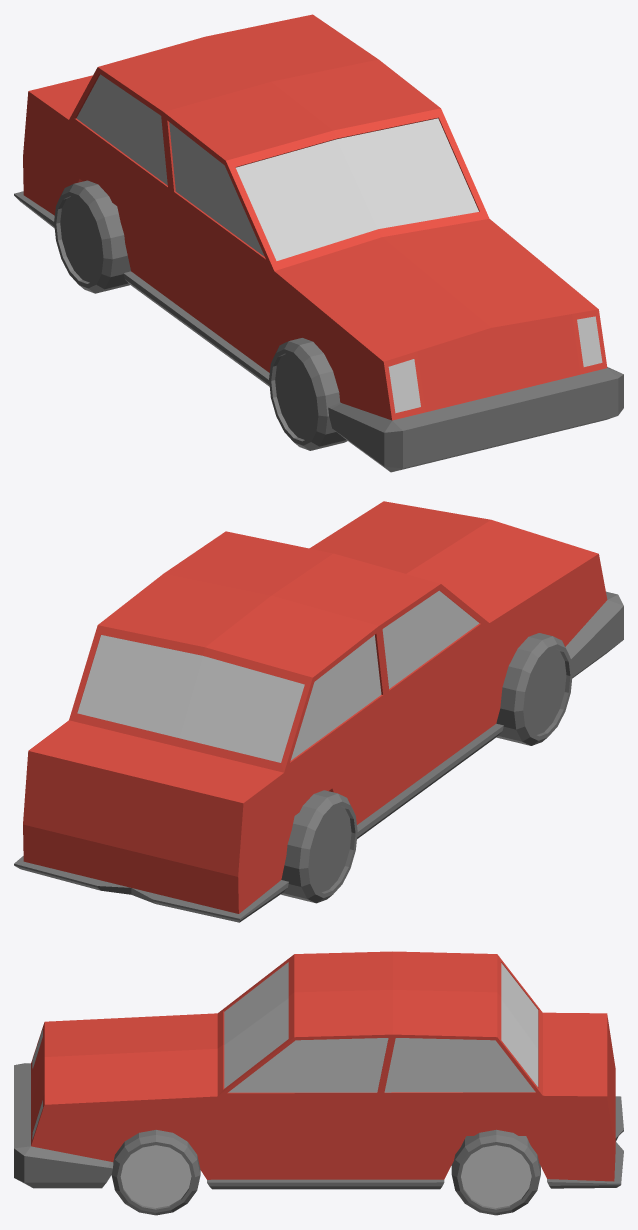
Rendered from car_city_oldenburg.fbx.
3 renders of one model, top to bottom at view 1: azimuth 30°, elevation 25°; view 2: azimuth 150°, elevation 25°; view 3: azimuth 270°, elevation 25°, orthographic. The views are drawn at different scales.
Parts seen in each view (by area): view 1: Circle; view 2: Circle; view 3: Circle.
Boxes of the visible parts, x1=… form: Circle: x1=14, y1=14, x2=623, y2=472; Circle: x1=14, y1=501, x2=623, y2=922; Circle: x1=14, y1=951, x2=623, y2=1215.
Size of the model in its own units: 172 by 147 by 453.
